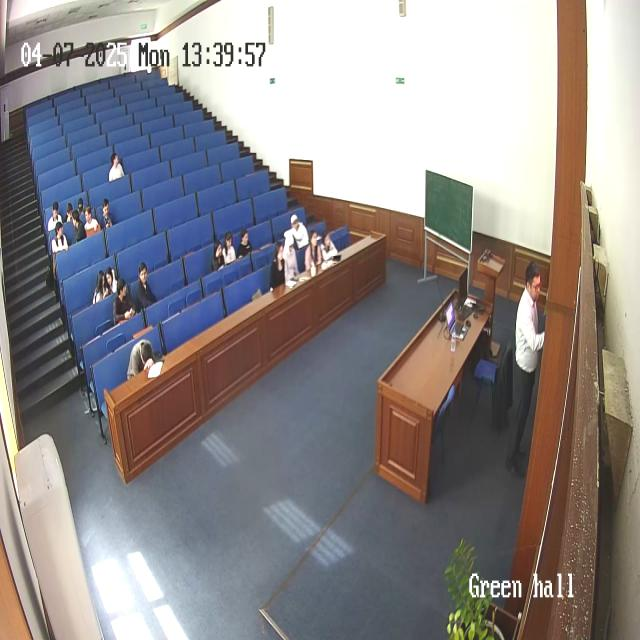person: (510, 260, 546, 471), (126, 338, 156, 381), (134, 261, 158, 314), (112, 276, 133, 324), (282, 228, 300, 282), (50, 221, 68, 273), (269, 241, 287, 290), (304, 228, 322, 274), (289, 212, 309, 250), (318, 228, 338, 264), (92, 268, 110, 306), (210, 236, 226, 273), (84, 204, 101, 238), (222, 231, 238, 266), (71, 209, 87, 243), (98, 198, 114, 230), (236, 228, 253, 258), (103, 266, 118, 298), (108, 152, 124, 182), (48, 202, 62, 234), (64, 199, 74, 220), (76, 196, 83, 213)
